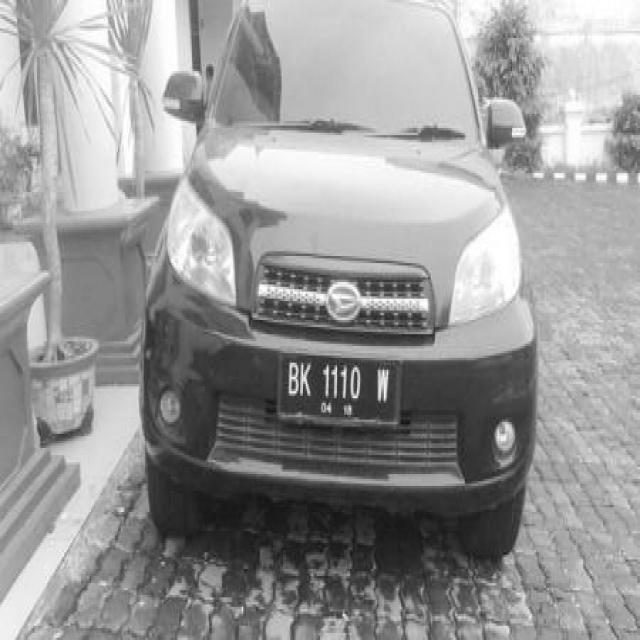0: (348, 368, 364, 402)
1: (331, 362, 342, 402), (340, 362, 350, 402), (322, 362, 331, 402)
B: (288, 362, 300, 396)
K: (300, 362, 312, 397)
W: (376, 368, 392, 404)
